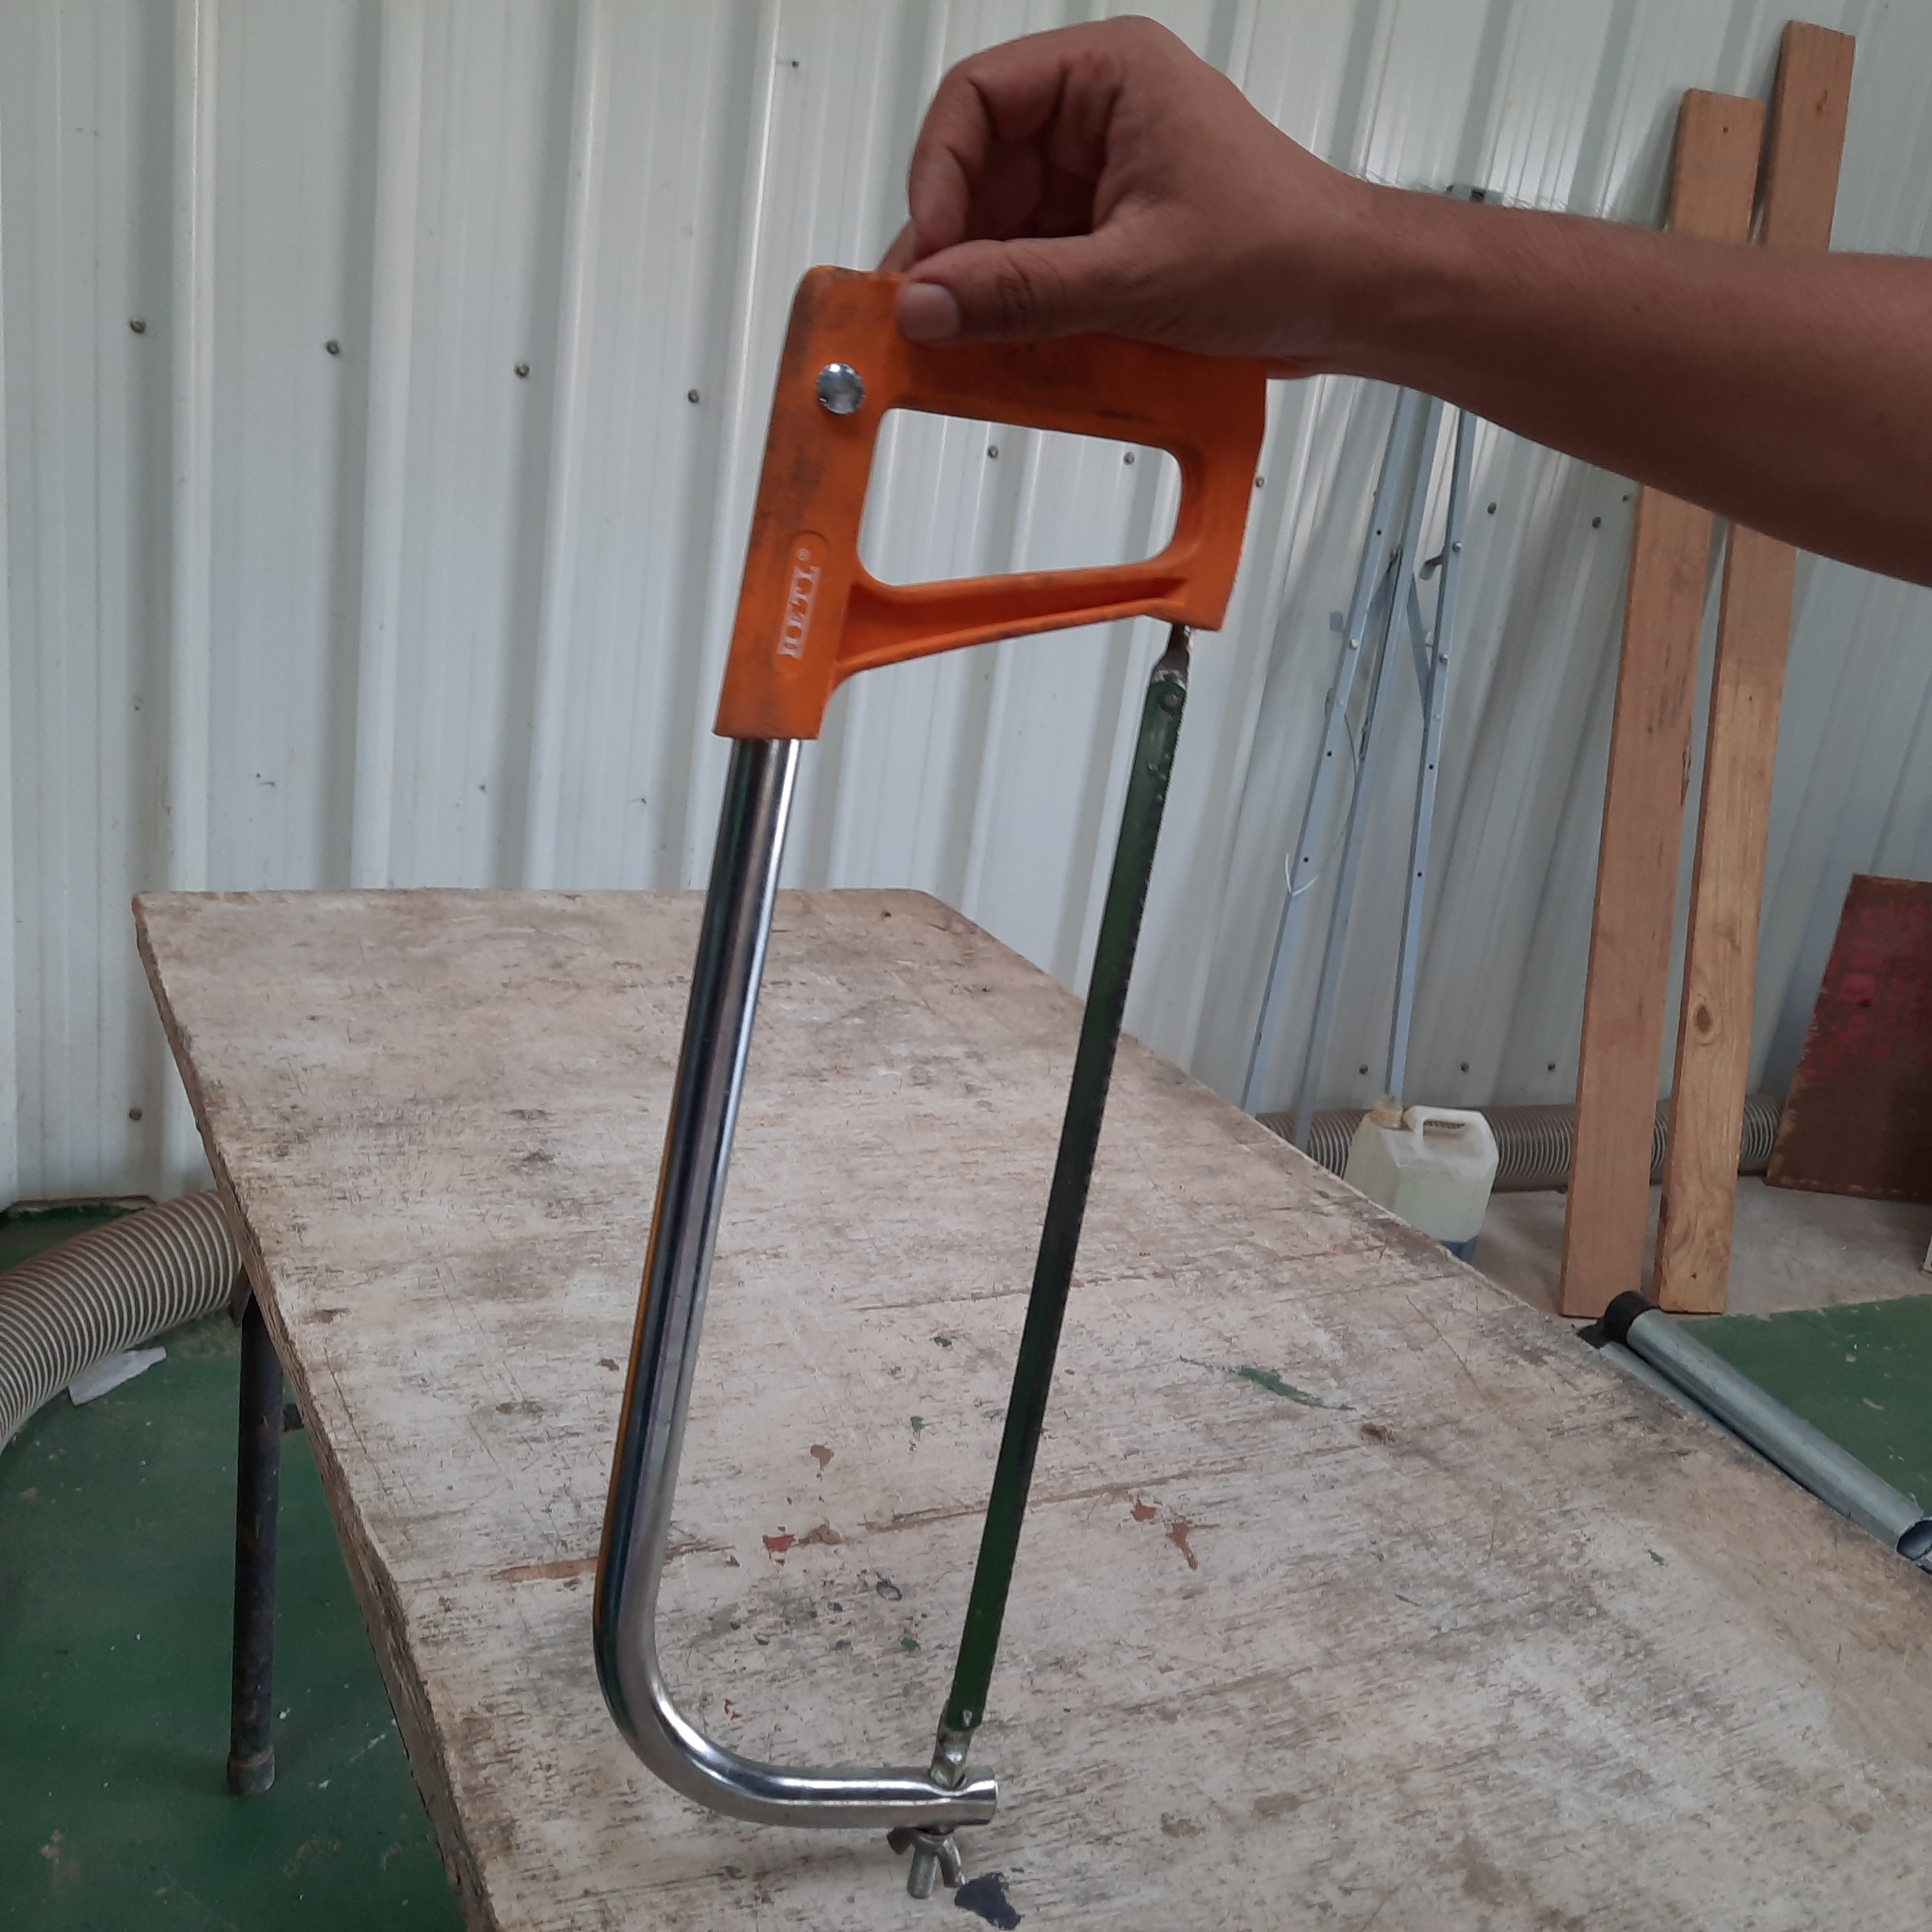Hexaframe: (556, 251, 1292, 1932)
